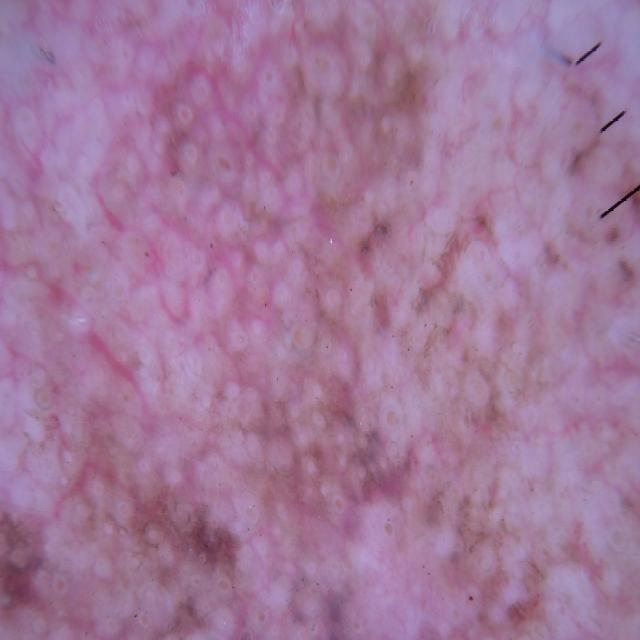Melanoma: (95, 183, 477, 640)
